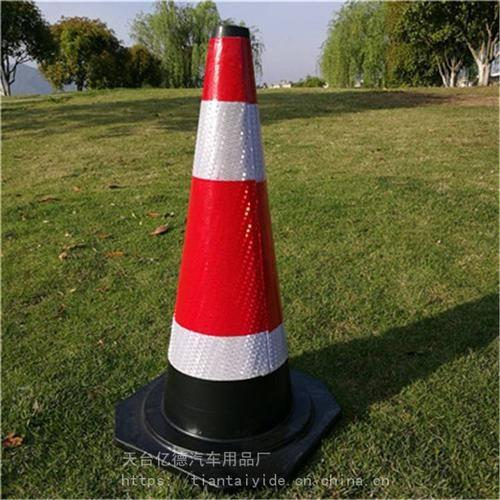cone_barrel: (137, 31, 307, 450)
